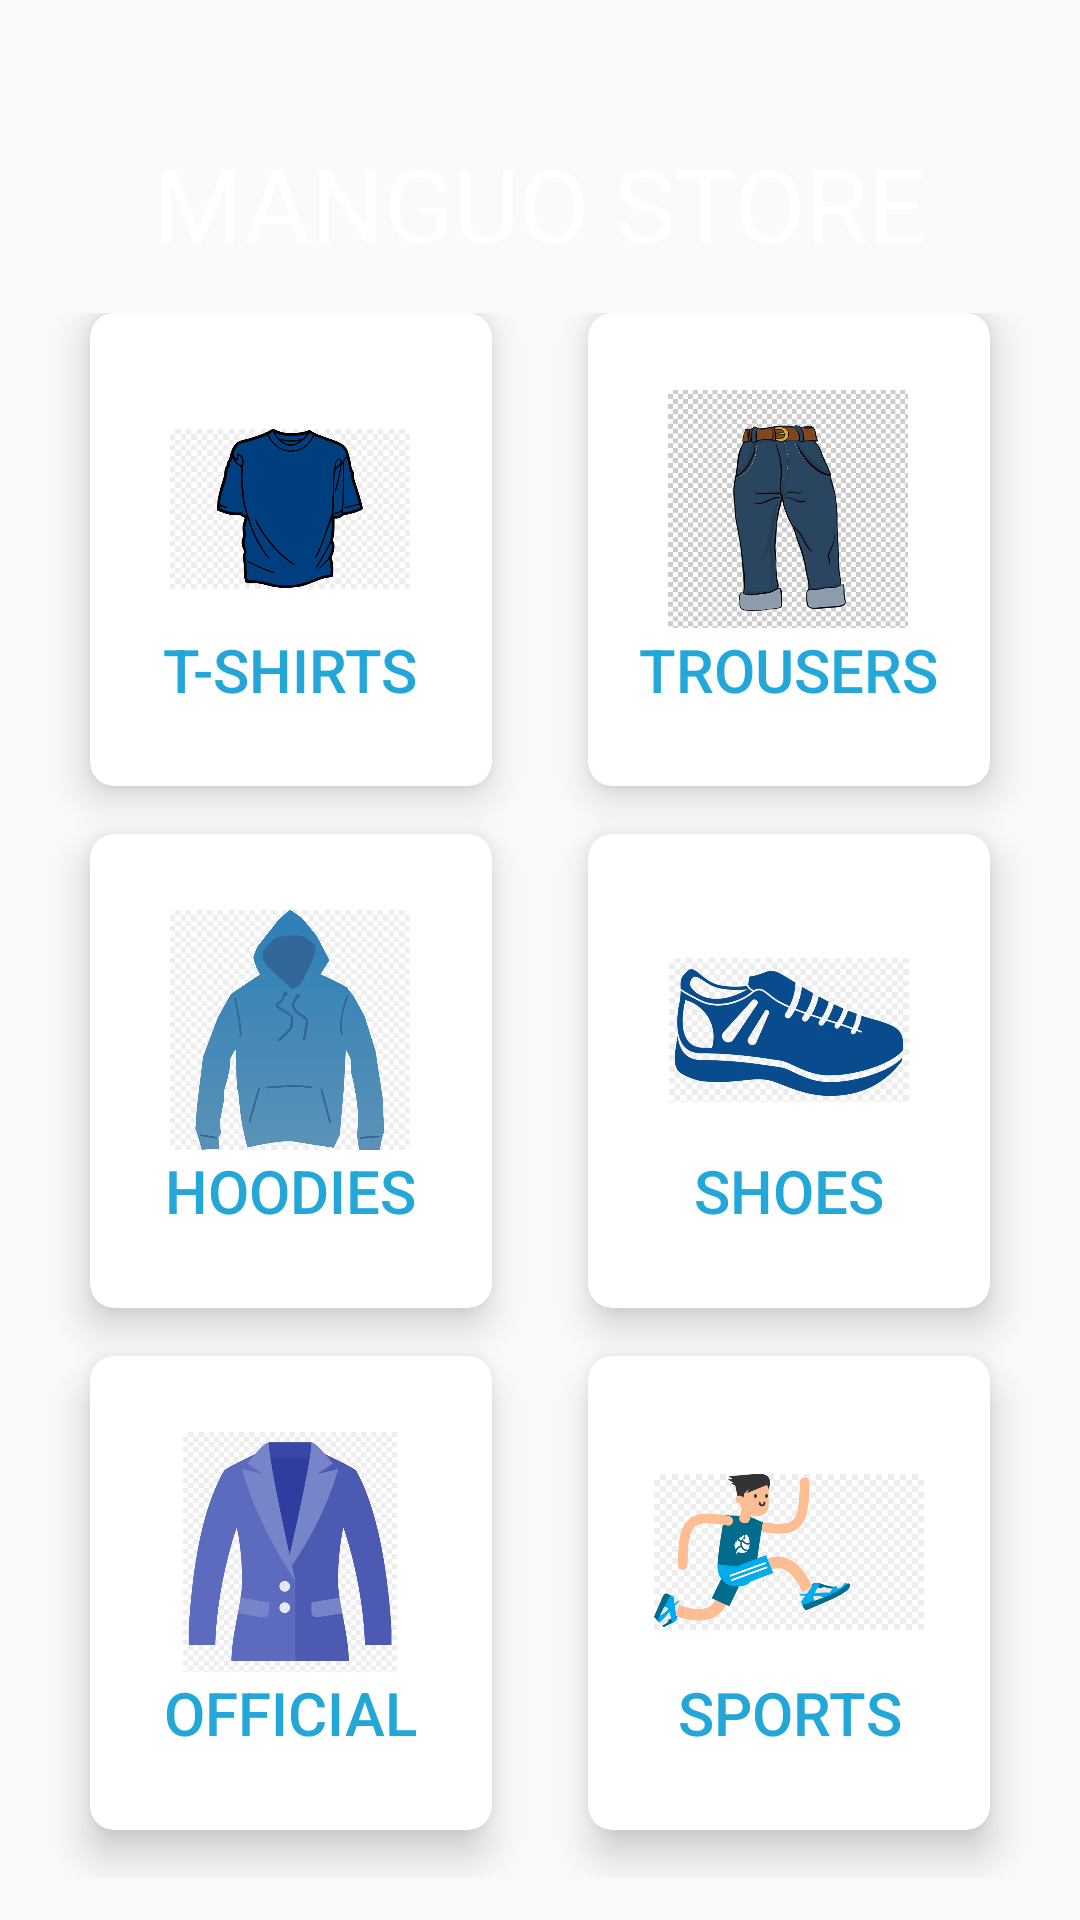

Locate icon controls on the screen. Image size 1080px×1920px, boxes as {"left": x1, "top": y1, "right": x2, "bottom": y2}.
suit: {"left": 188, "top": 1442, "right": 392, "bottom": 1661}
